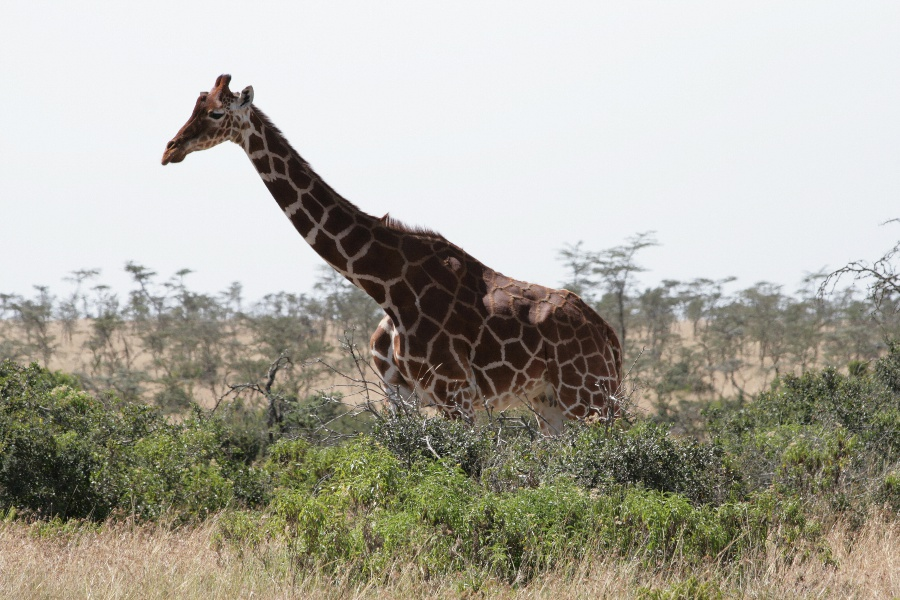giraffe: (148, 63, 637, 445)
